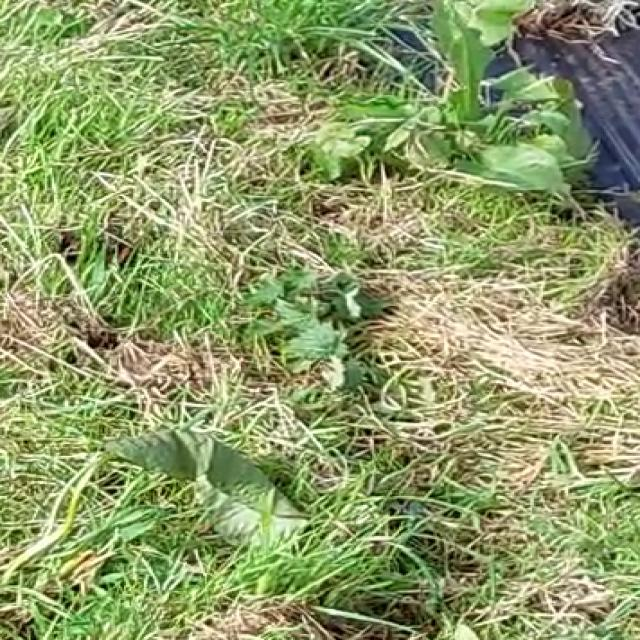organic waste: (77, 388, 417, 584), (311, 0, 593, 212)
